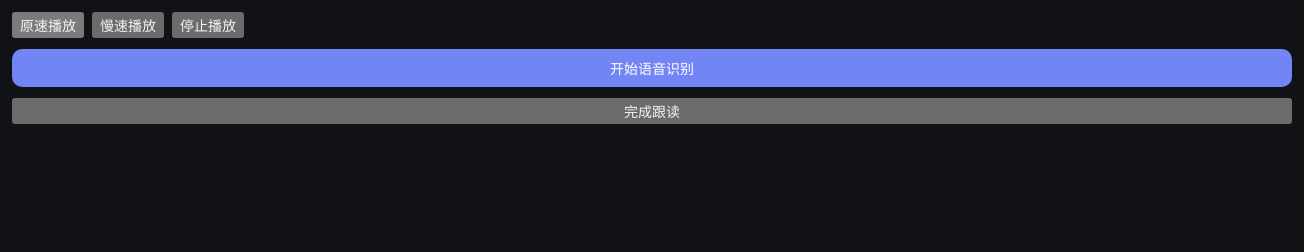
Test: recognition reports Unicode-aware transcript coverage without faking an accent score
This screenshot has width=1304, height=252.
Click the button "开始语音识别" at x=652, y=68, box [12,49,1292,87]
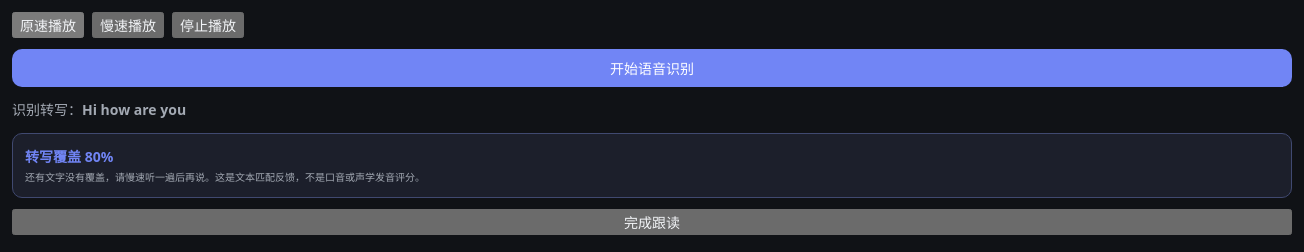
expect the text "转写覆盖 80%" is shown: met, box [25,147,113,166]
expect the text "还有文字没有覆盖，请慢速听一遍后再说。这是文本匹配反馈，不是口音或声学发音评分。" is shown: met, box [25,170,425,184]
